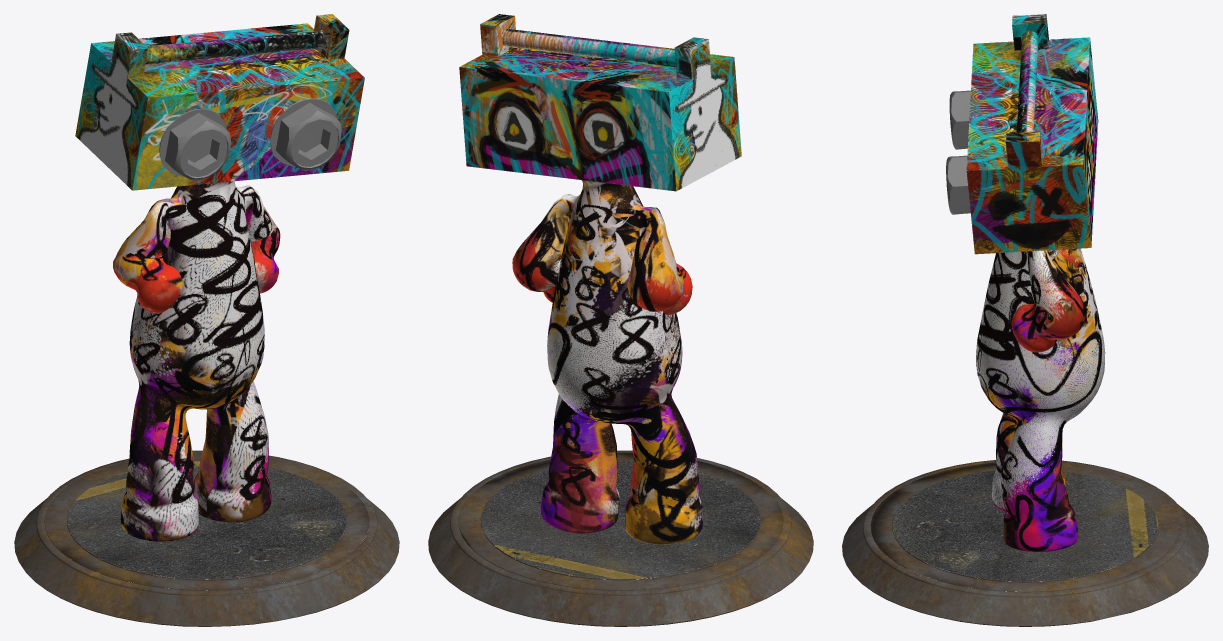
The picture shows the model from 3 angles, left to right: view 1: azimuth 30°, elevation 25°; view 2: azimuth 150°, elevation 25°; view 3: azimuth 270°, elevation 25°; orthographic projection. The views are drawn at different scales.
Visible parts, largest first — view 1: BBody; view 2: BBody; view 3: BBody.
Part boxes in pixels (x1,y1,x2,y2): BBody: (14, 14, 399, 626); BBody: (428, 14, 813, 626); BBody: (842, 14, 1208, 626).
Size of the model in its own units: 1.45 by 2.17 by 1.45.
Materials: 5 (4 with a texture image).
